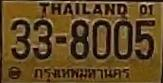0: (113, 20, 132, 58), (92, 20, 110, 58)
3: (32, 19, 52, 59), (10, 19, 30, 58)
5: (134, 19, 154, 59)
8: (70, 19, 88, 58)
BKK: (32, 64, 130, 80)
